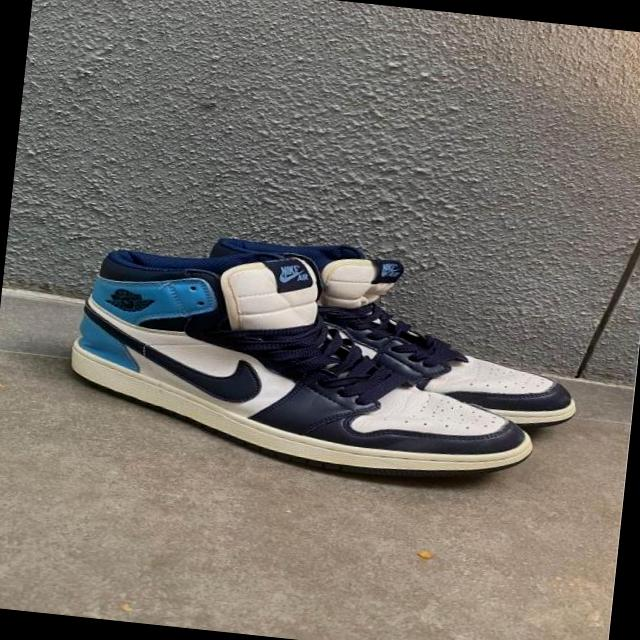nike_fake_jordan: (61, 230, 553, 494), (194, 229, 592, 436)
